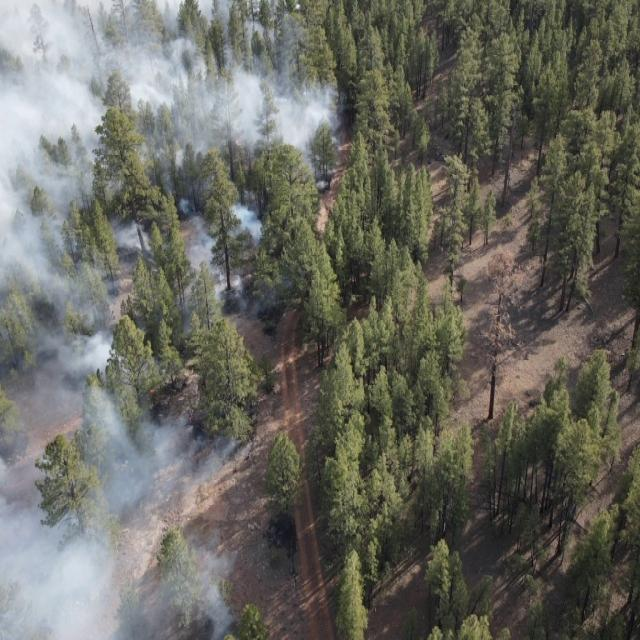fire: (144, 382, 160, 400)
smoke: (0, 0, 342, 166), (0, 166, 261, 304), (0, 410, 268, 542), (1, 304, 166, 410), (0, 541, 129, 640), (128, 542, 235, 639)
